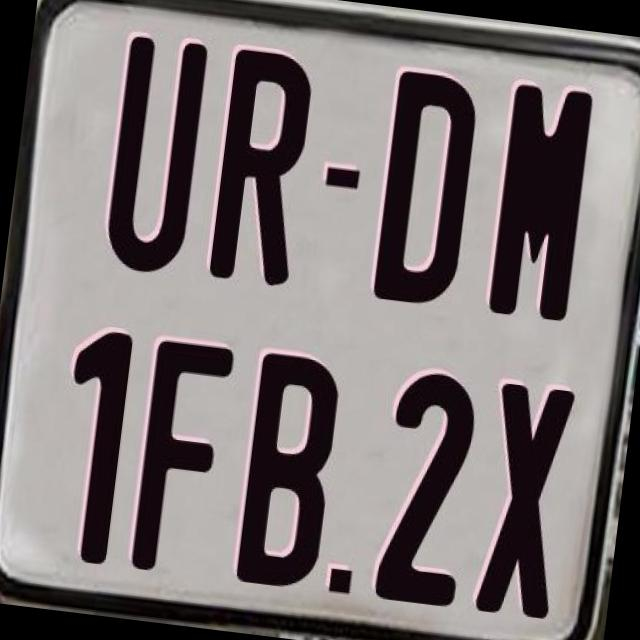1: (49, 326, 136, 572)
2: (372, 369, 484, 614)
B: (234, 350, 340, 594)
D: (371, 65, 484, 311)
F: (128, 334, 238, 576)
M: (484, 80, 596, 320)
U: (102, 34, 208, 284)
X: (470, 380, 573, 618)
